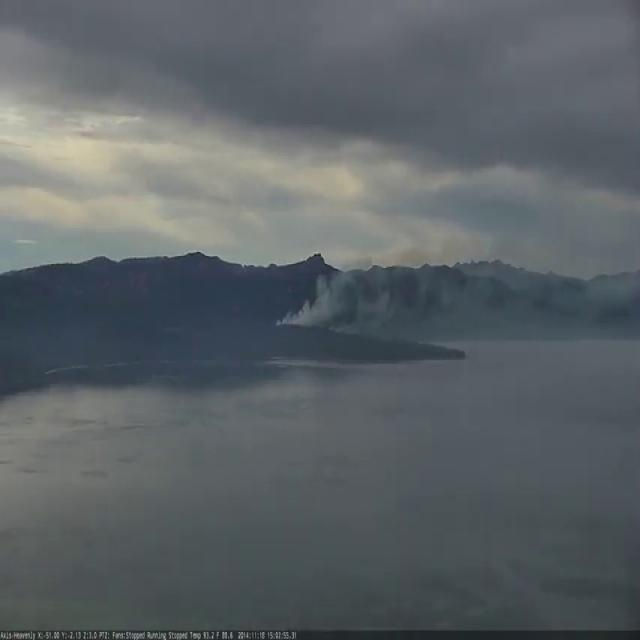smoke: (278, 226, 640, 350)
